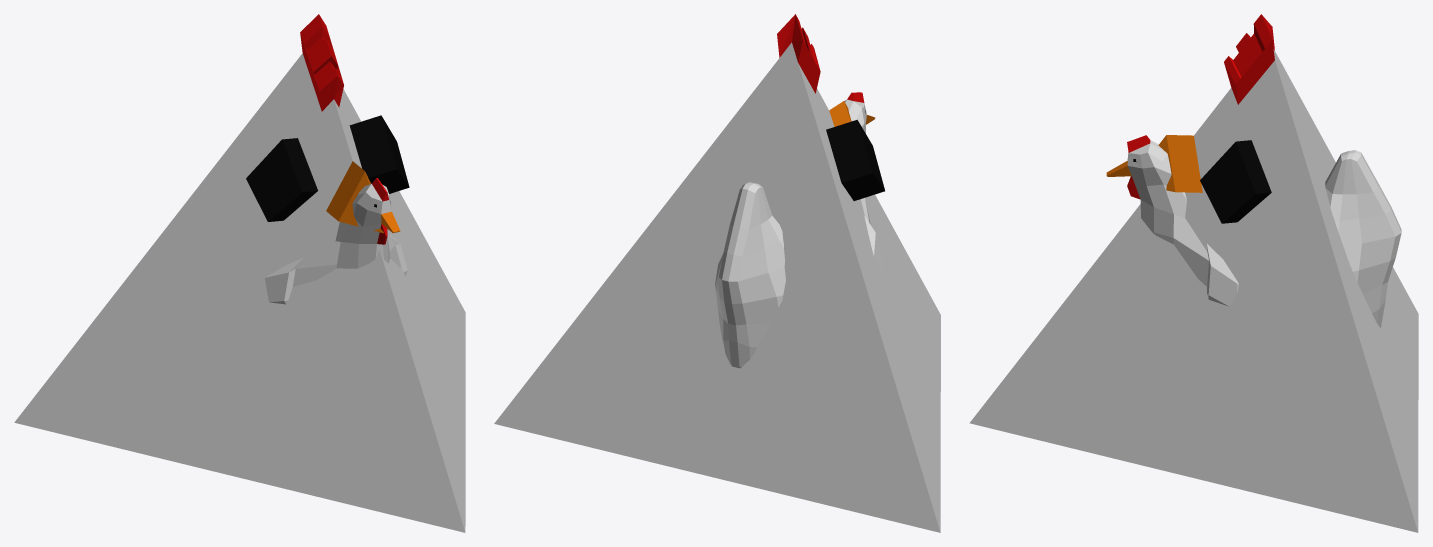
The model's file is ChickenPack.fbx.
The picture shows the model from 3 angles, left to right: view 1: azimuth 30°, elevation 25°; view 2: azimuth 150°, elevation 25°; view 3: azimuth 270°, elevation 25°; orthographic projection.
Visible parts, largest first — view 1: Chicken_Abstract, Chicken_Normal; view 2: Chicken_Abstract, Chicken_Normal; view 3: Chicken_Abstract, Chicken_Normal.
Boxes of the visible parts, x1,y1,x2,y2 form: Chicken_Abstract: (14, 14, 465, 532); Chicken_Normal: (265, 178, 407, 304); Chicken_Abstract: (494, 14, 940, 532); Chicken_Normal: (715, 92, 882, 368); Chicken_Abstract: (969, 14, 1418, 532); Chicken_Normal: (1106, 135, 1401, 327).
Size of the model in its own units: 65.32 by 56.9 by 56.59.
